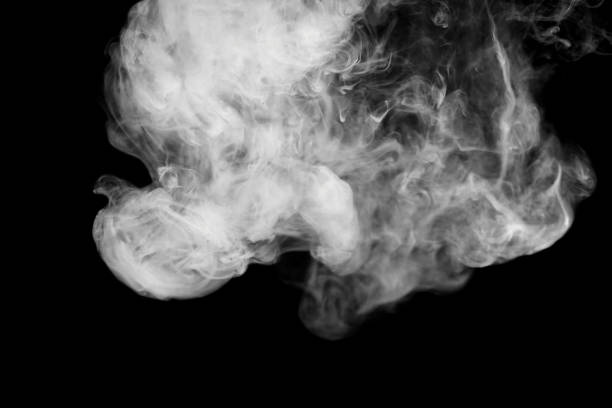smoke: (96, 1, 579, 297)
